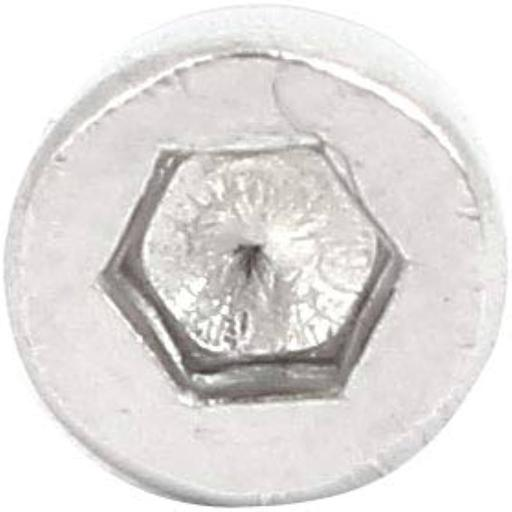Hex-Allen: (7, 6, 507, 500)
